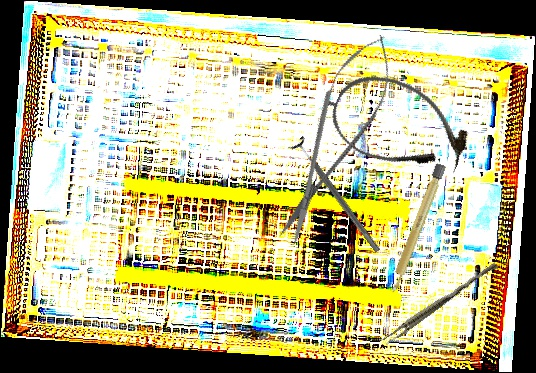Cannula: (320, 60, 480, 192)
Fixation Ring: (286, 135, 387, 258)
Micro Scissor: (261, 24, 409, 253)
Scalpel Handle: (386, 161, 447, 296)
Tissue Forceps: (381, 258, 499, 348)
